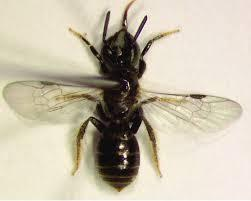Braunsapis: (8, 3, 242, 193)
